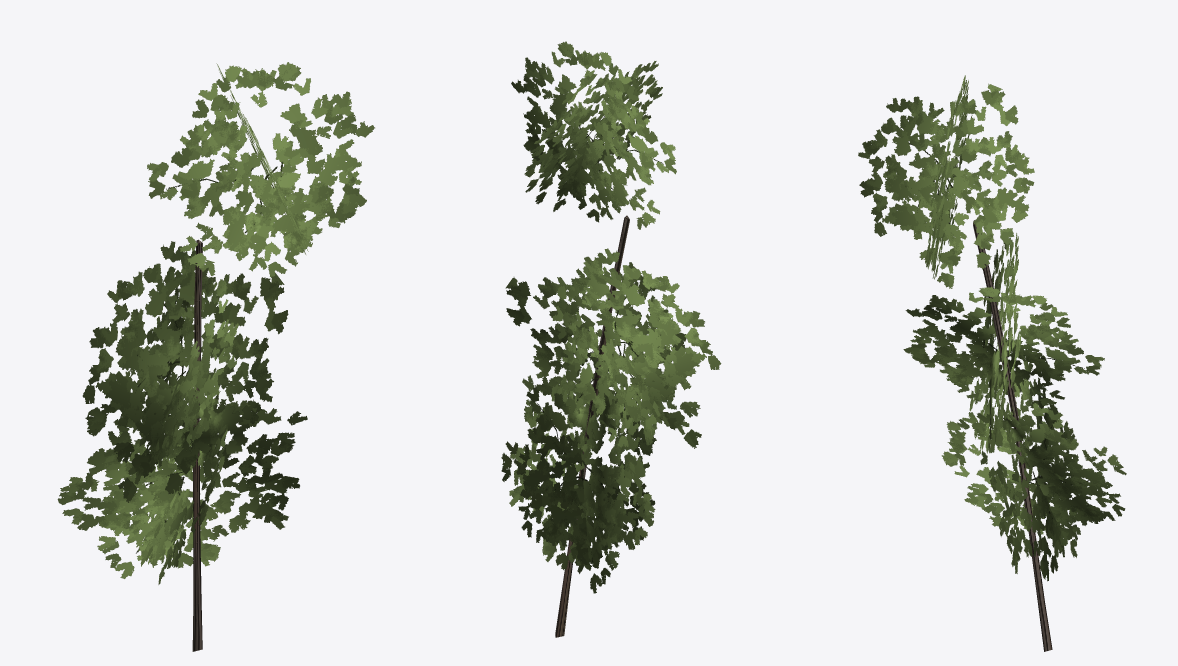
File: seedling-b.lod1.glb
3 renders of one model, left to right at view 1: azimuth 30°, elevation 25°; view 2: azimuth 150°, elevation 25°; view 3: azimuth 270°, elevation 25°, orthographic. The views are drawn at different scales.
Visible parts, largest first — view 1: foliage, bark; view 2: foliage, bark; view 3: foliage, bark.
Boxes of the visible parts, <box> form: foliage: <box>57,62,374,584</box>; bark: <box>192,239,202,651</box>; foliage: <box>501,41,721,593</box>; bark: <box>555,215,629,637</box>; foliage: <box>858,75,1126,581</box>; bark: <box>973,220,1052,651</box>.
Bounding box in the file's own units: 0.2087 × 0.35 × 0.18.
2 materials, 2 textured.
